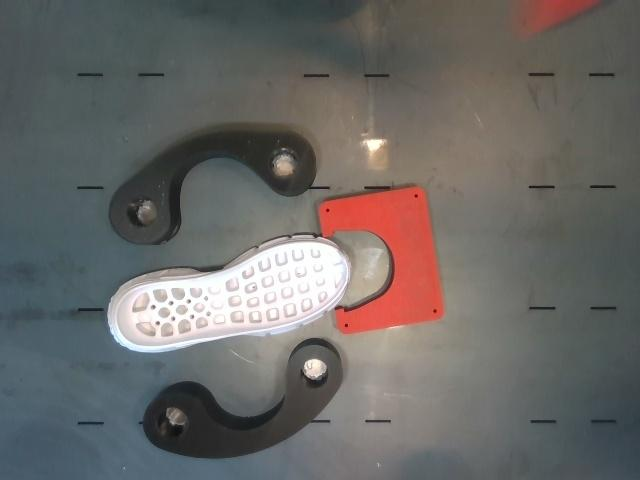shoes: (116, 241, 349, 347)
